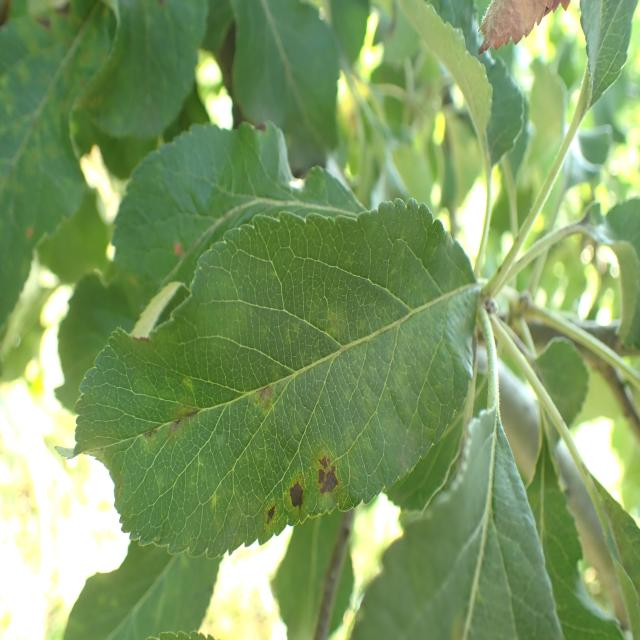scab: (98, 257, 469, 505)
